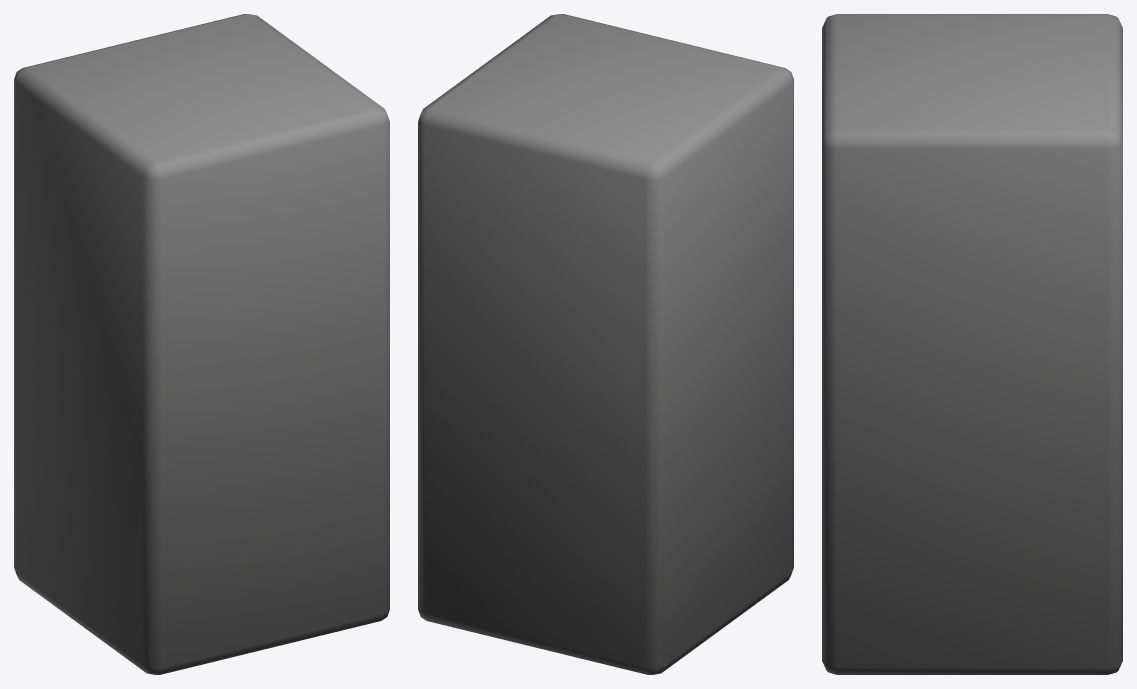
File: 3D_Tile_Dungeon_01x2.fbx
The picture shows the model from 3 angles, left to right: view 1: azimuth 30°, elevation 25°; view 2: azimuth 150°, elevation 25°; view 3: azimuth 270°, elevation 25°; orthographic projection. The views are drawn at different scales.
Visible parts, largest first — view 1: 3D_Tile_Dungeon_01x2; view 2: 3D_Tile_Dungeon_01x2; view 3: 3D_Tile_Dungeon_01x2.
Boxes of the visible parts, <box> form: 3D_Tile_Dungeon_01x2: <box>14,14,389,674</box>; 3D_Tile_Dungeon_01x2: <box>418,14,793,674</box>; 3D_Tile_Dungeon_01x2: <box>822,14,1122,674</box>.
Bounding box in the file's own units: 200 × 400 × 200.
